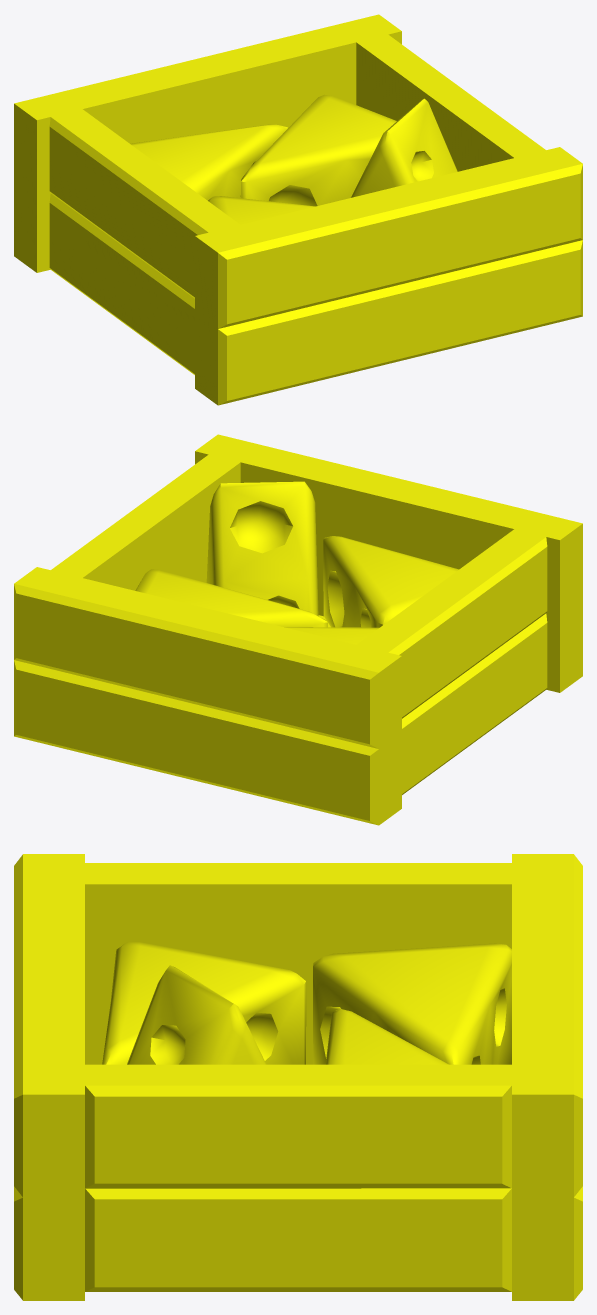
File: crate_cheese.gltf
The picture shows the model from 3 angles, top to bottom: view 1: azimuth 30°, elevation 25°; view 2: azimuth 150°, elevation 25°; view 3: azimuth 270°, elevation 25°; orthographic projection. The views are drawn at different scales.
Parts seen in each view (by area): view 1: crate_cheese; view 2: crate_cheese; view 3: crate_cheese.
Part boxes in pixels (x1,y1,x2,y2): crate_cheese: (14, 14, 582, 405); crate_cheese: (14, 434, 582, 825); crate_cheese: (14, 854, 582, 1300).
Bounding box in the file's own units: 2 × 0.946 × 2.
Materials: 1 (1 with a texture image).
